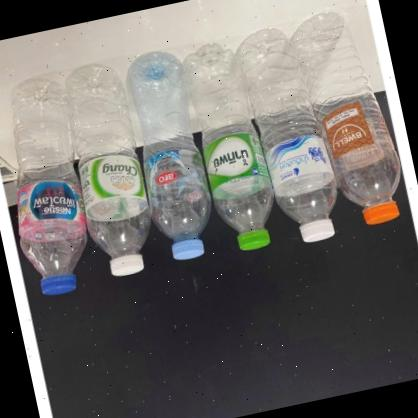bottle: (289, 1, 412, 233), (239, 22, 346, 248), (55, 60, 162, 282), (118, 45, 224, 264), (0, 73, 100, 300), (181, 38, 284, 257)
cap: (358, 197, 400, 226), (296, 216, 338, 244), (38, 270, 78, 298), (107, 250, 146, 278), (235, 226, 271, 253), (169, 236, 205, 263)
label: (321, 95, 395, 162), (9, 172, 84, 238), (76, 150, 146, 213), (202, 130, 270, 194), (264, 131, 333, 187), (140, 143, 205, 195)
